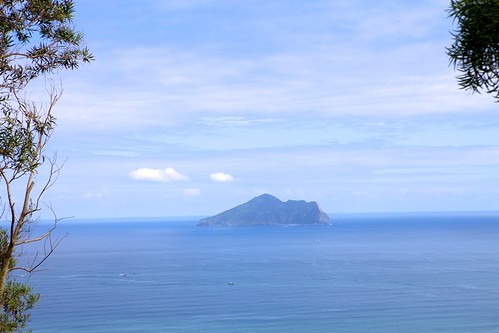turtleIsland: (194, 193, 331, 226)
